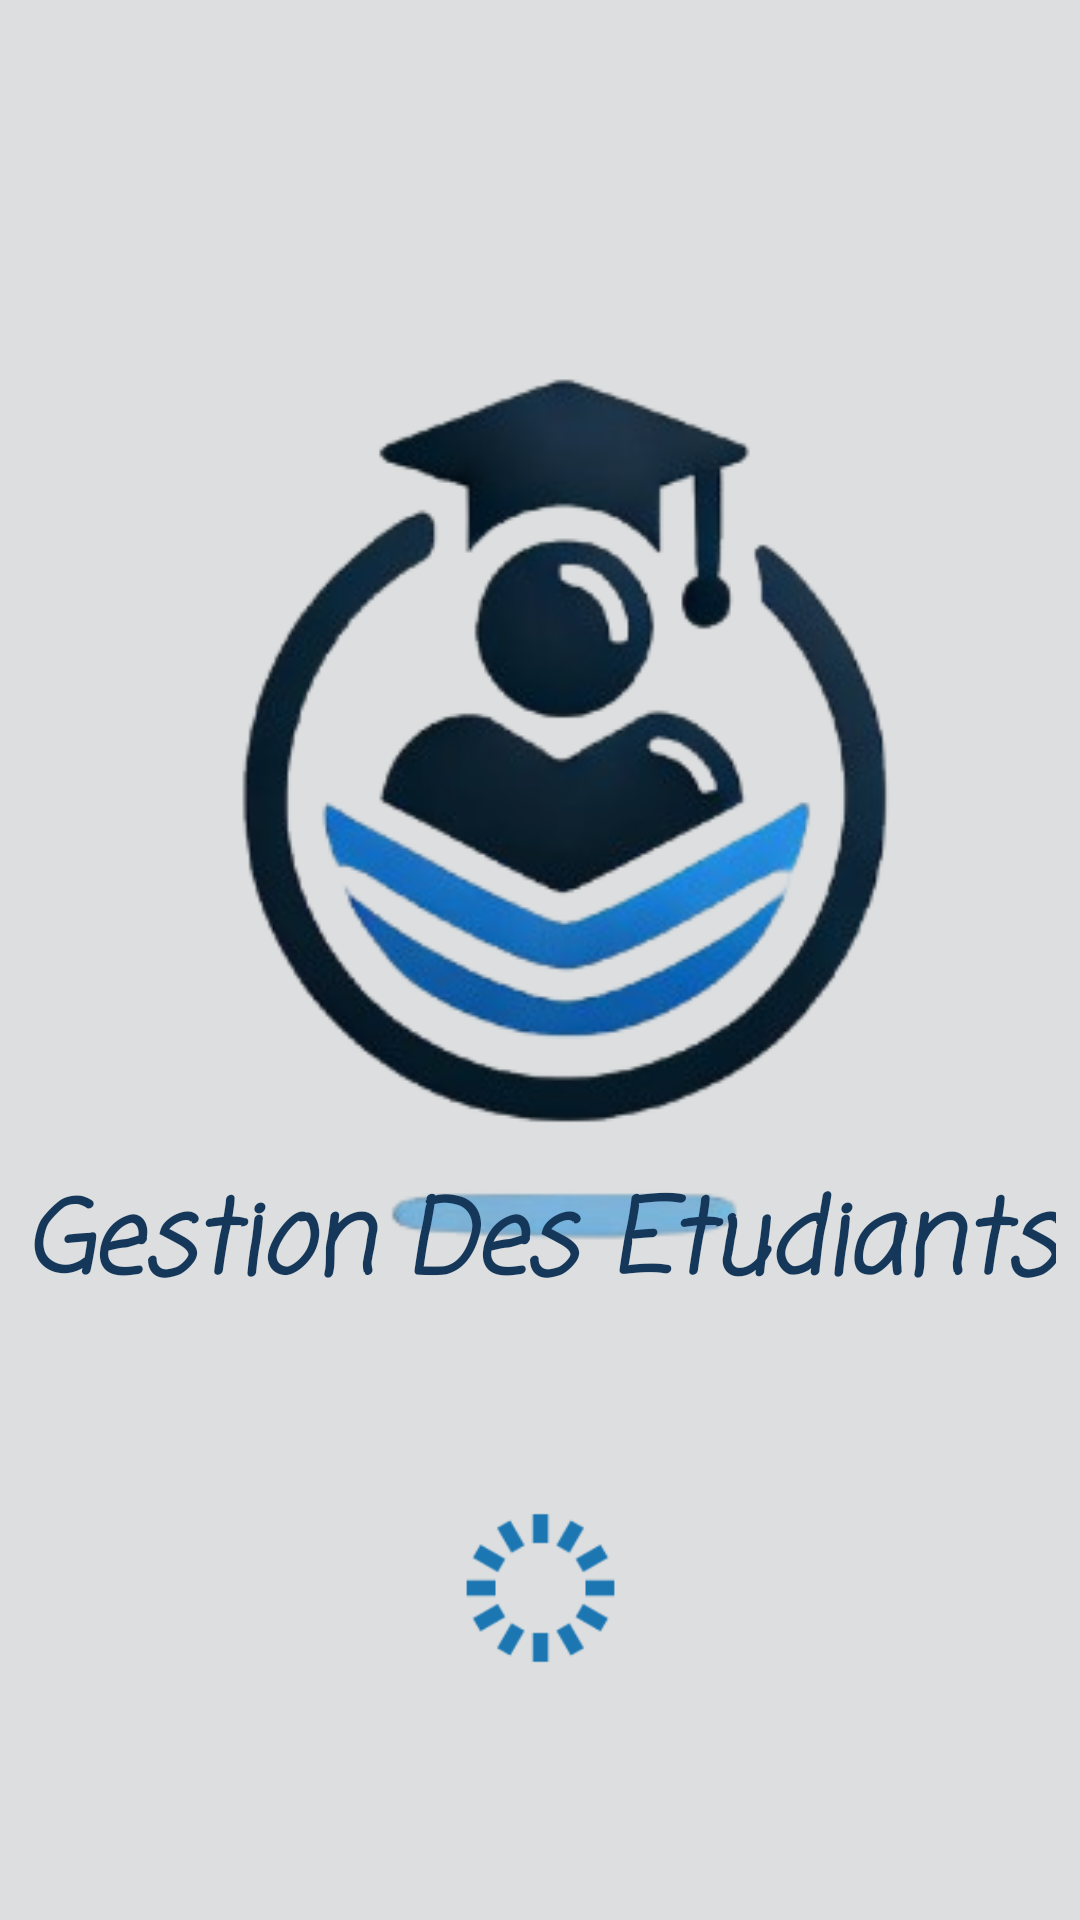

Icon click points for this 1080w x 1920h phone screenshot, format point (x, y):
loading: point (540, 1588)
